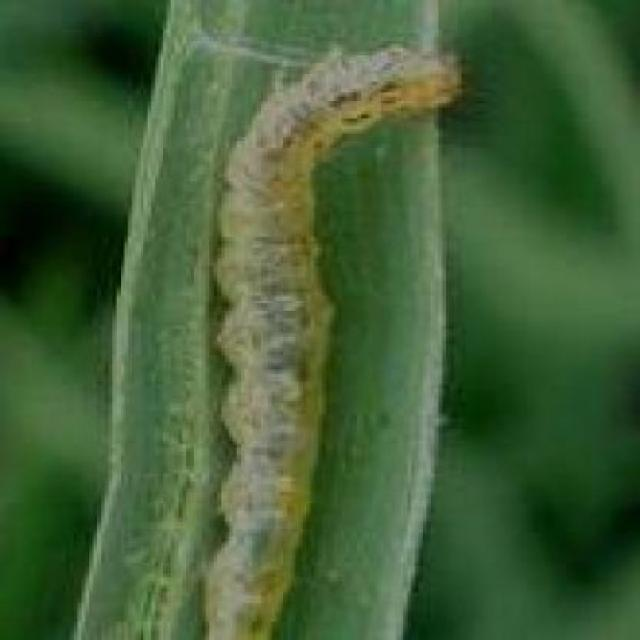leaf-folder: (186, 35, 494, 640)
